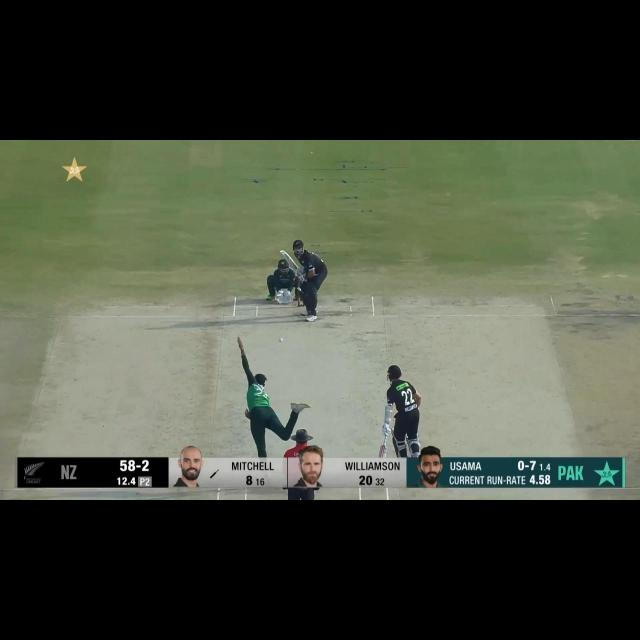bat: (280, 248, 299, 270), (378, 446, 388, 458)
toe: (280, 250, 286, 255)
